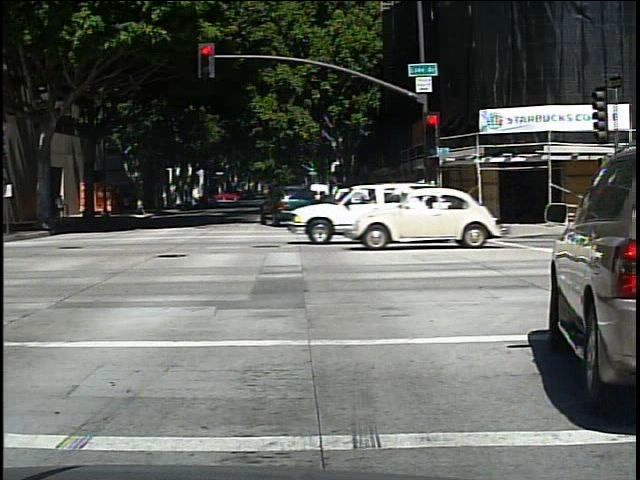person: (56, 189, 69, 223)
